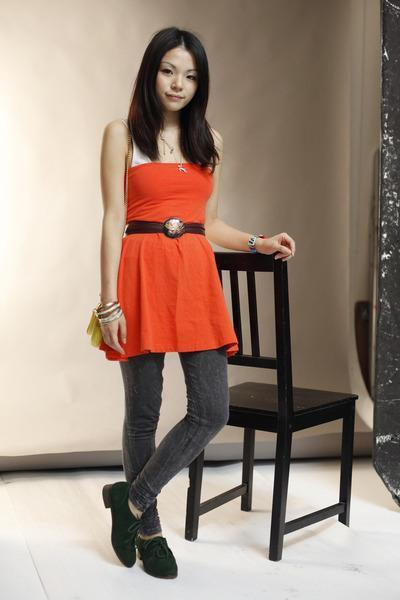dress: (99, 156, 227, 363)
pants: (108, 343, 238, 539)
shoe: (86, 471, 177, 578)
